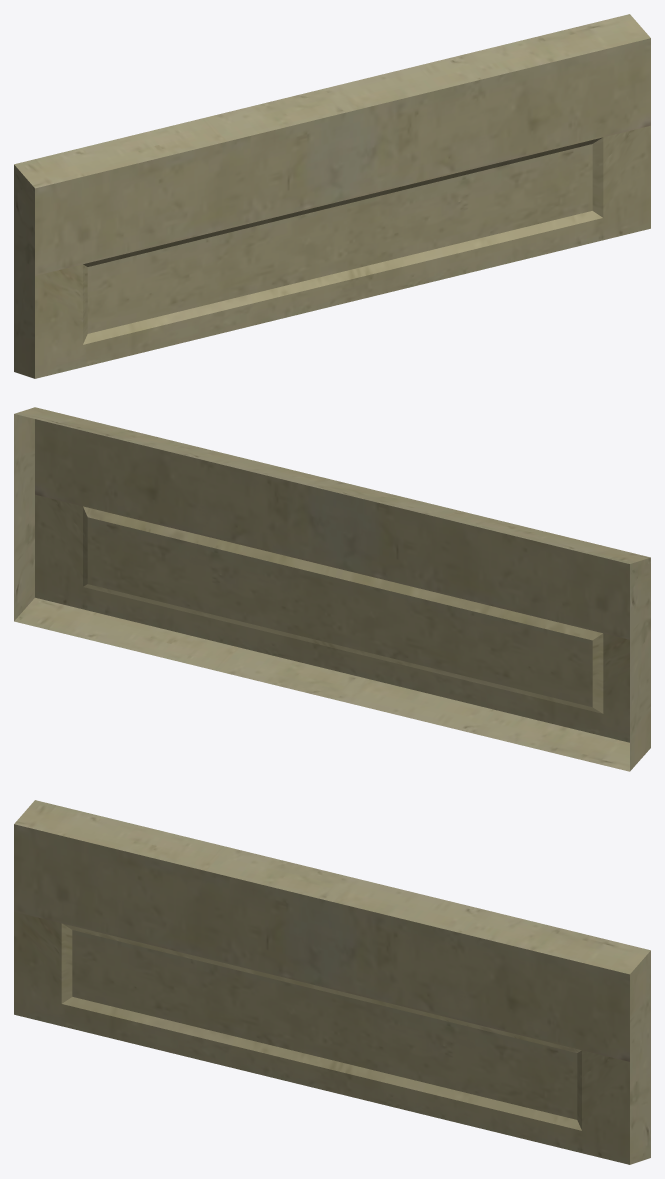
File: Trim_Wall_Guard.glb
3 views of the same model, one above another, from view 1: azimuth 30°, elevation 25°; view 2: azimuth 150°, elevation 25°; view 3: azimuth 330°, elevation 25° (orthographic).
Visible parts, largest first — view 1: Trim_Wall_Guard; view 2: Trim_Wall_Guard; view 3: Trim_Wall_Guard.
Part boxes in pixels (<box>): Trim_Wall_Guard: <box>14,14,650,378</box>; Trim_Wall_Guard: <box>14,407,650,771</box>; Trim_Wall_Guard: <box>14,800,650,1164</box>.
Size of the model in its own units: 2 by 0.6442 by 0.1185.
Materials: 1 (1 with a texture image).
